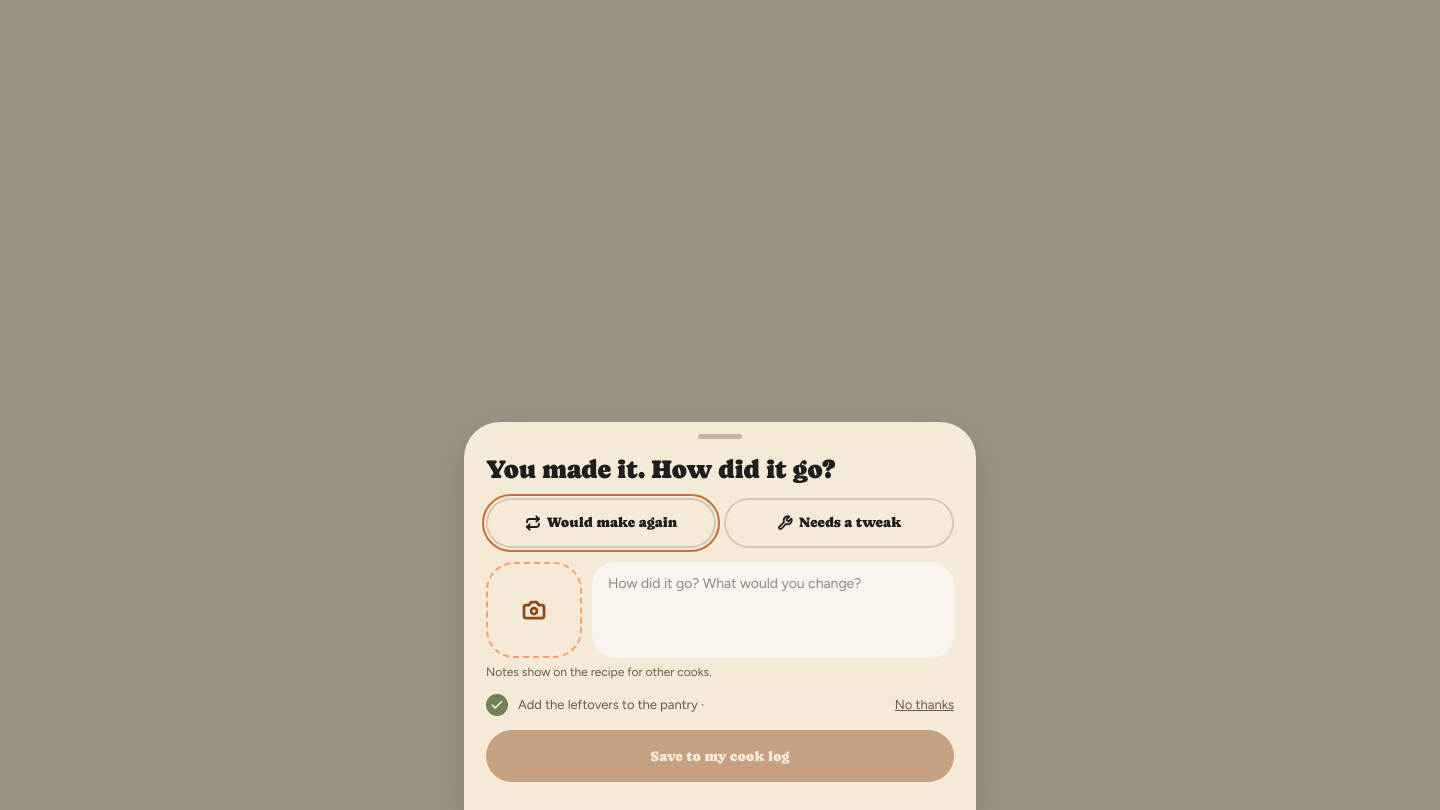
Test: CookedSheet › keeps the sheet and shows the failure copy
The image size is (1440, 810).
Click the radio button labelled "Would make again": (601, 523) [486,498,716,548]
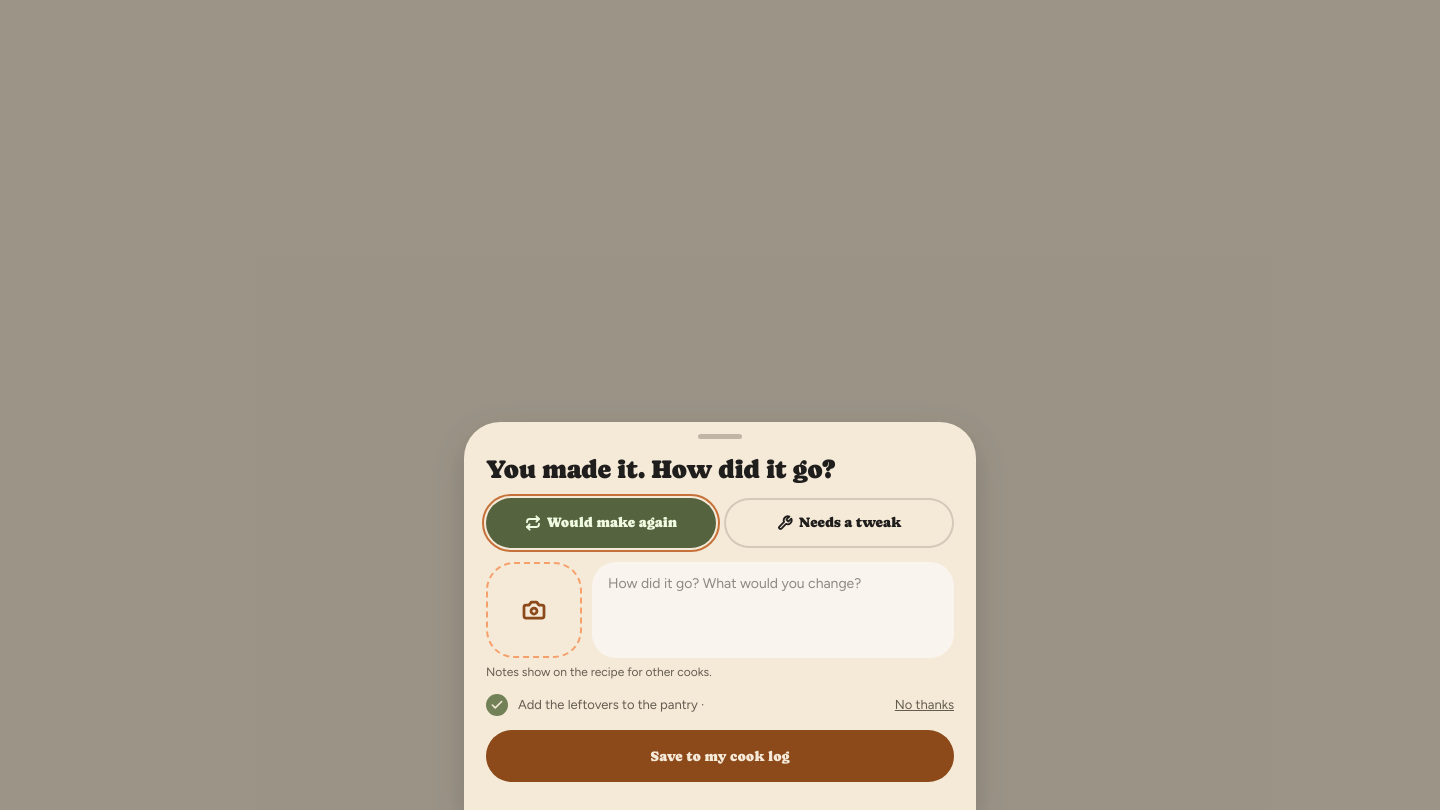
Click the button "Save to my cook log": (720, 756) [486,730,954,782]
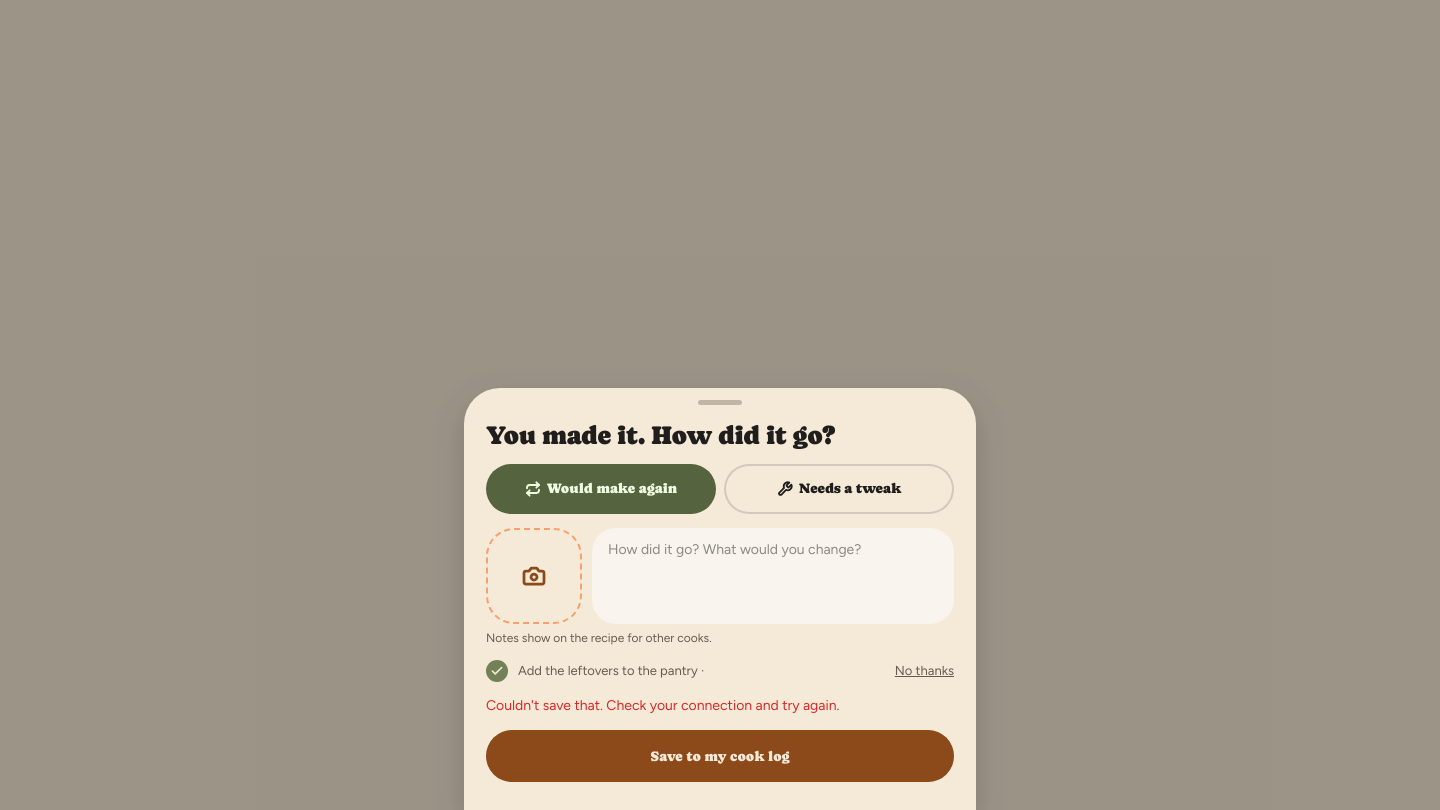
Check: the button "Save to my cook log" is enabled, box [486,730,954,782]
Check: the message reads "Couldn't save that. Check your connection and try again.", box [486,697,840,714]
